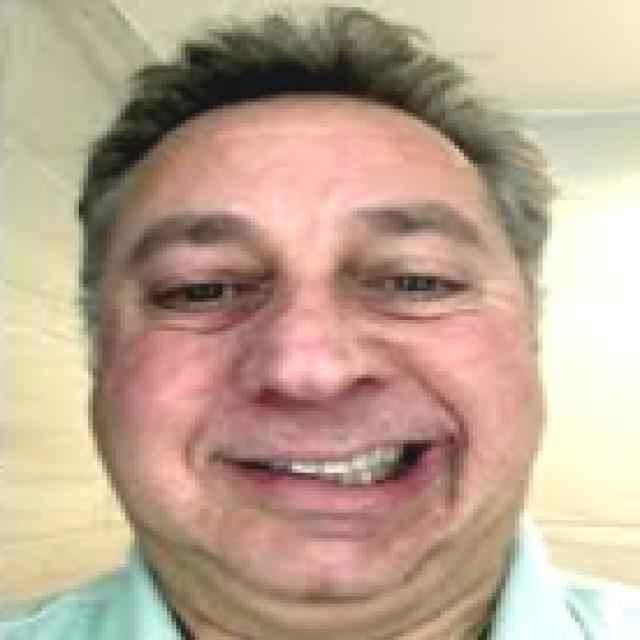stroke_face: (91, 77, 543, 606)
